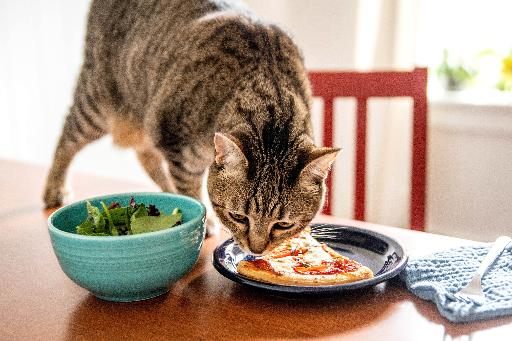cat_eating: (44, 0, 408, 289)
